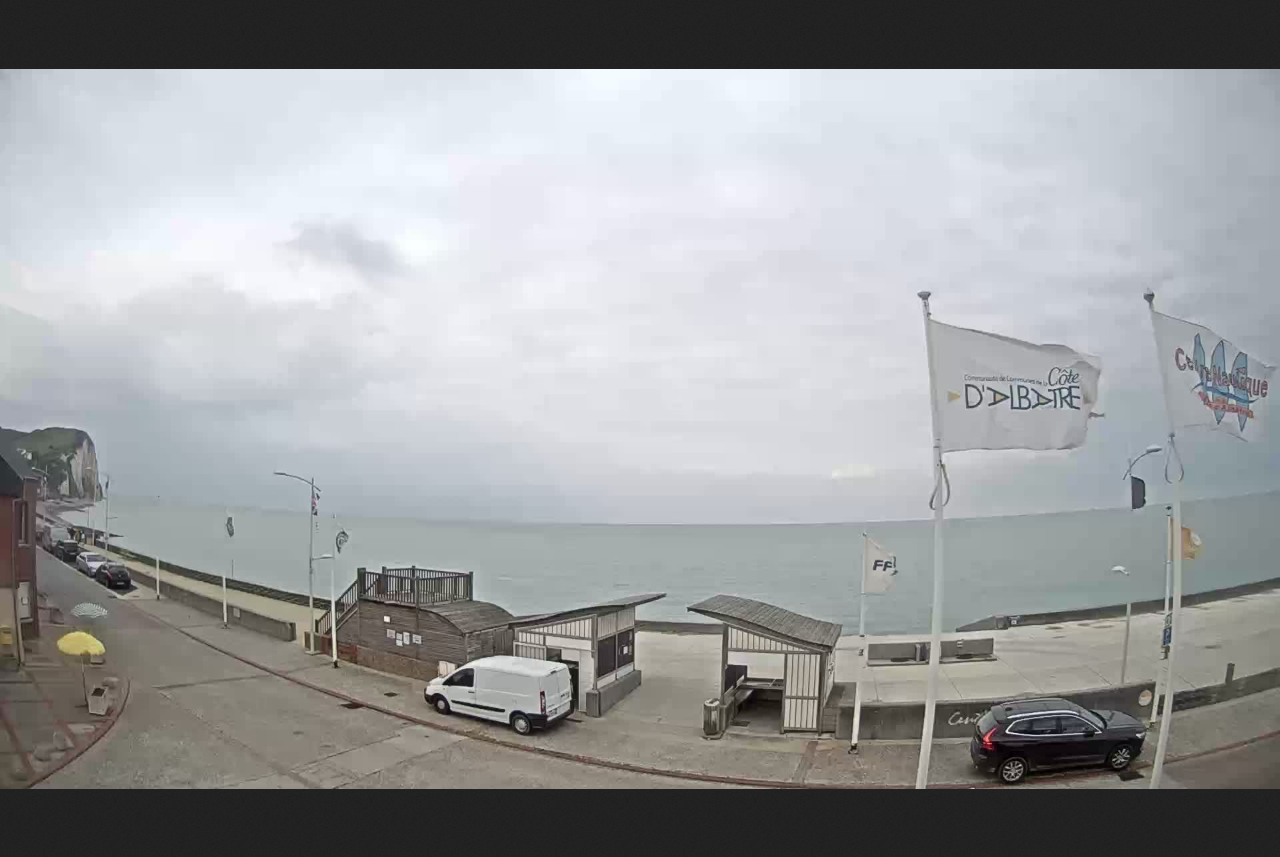yes: (919, 291, 1115, 464), (1141, 292, 1279, 457)
